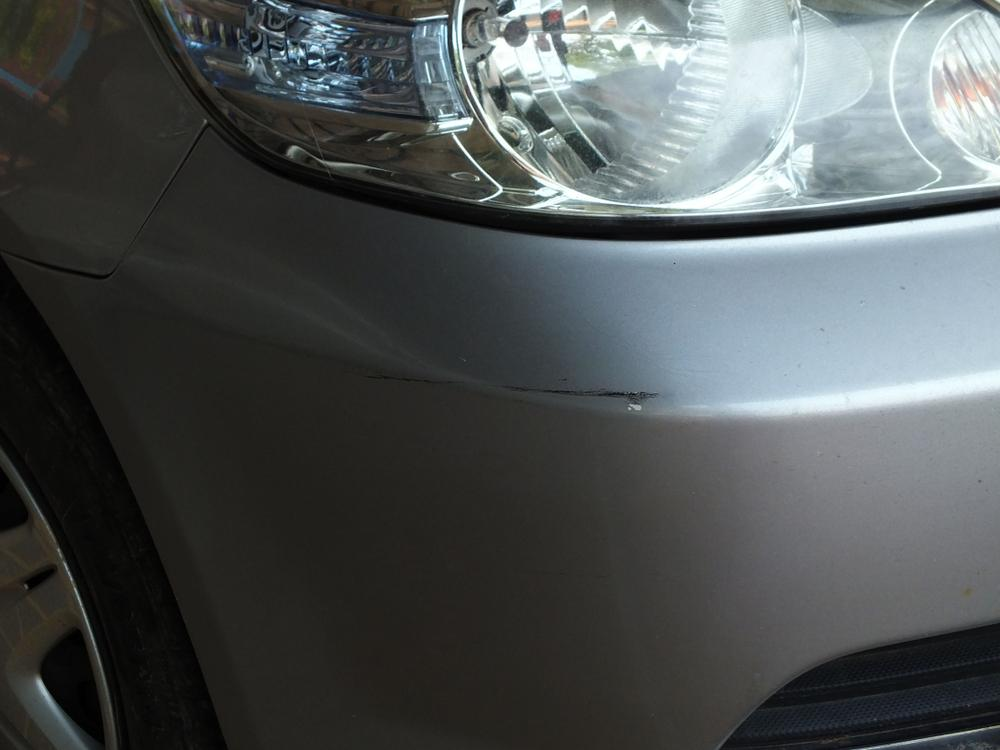scratch: (355, 368, 673, 414)
